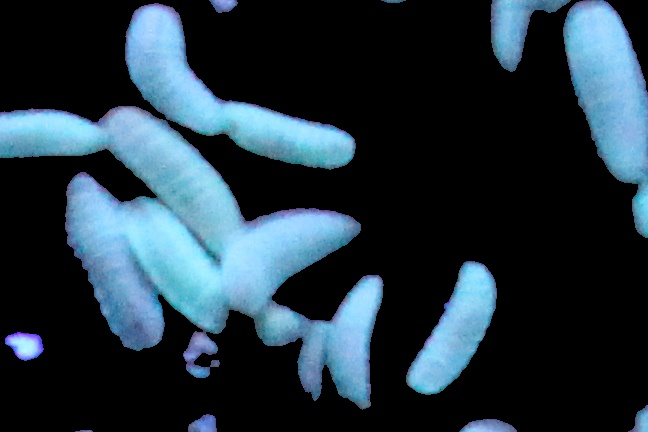larvae: (93, 106, 243, 229), (65, 171, 170, 344), (560, 1, 648, 187), (219, 203, 361, 313), (121, 198, 225, 327), (402, 264, 502, 396), (126, 16, 230, 140), (329, 264, 389, 408), (218, 112, 350, 168), (2, 108, 106, 158), (489, 1, 532, 79)
